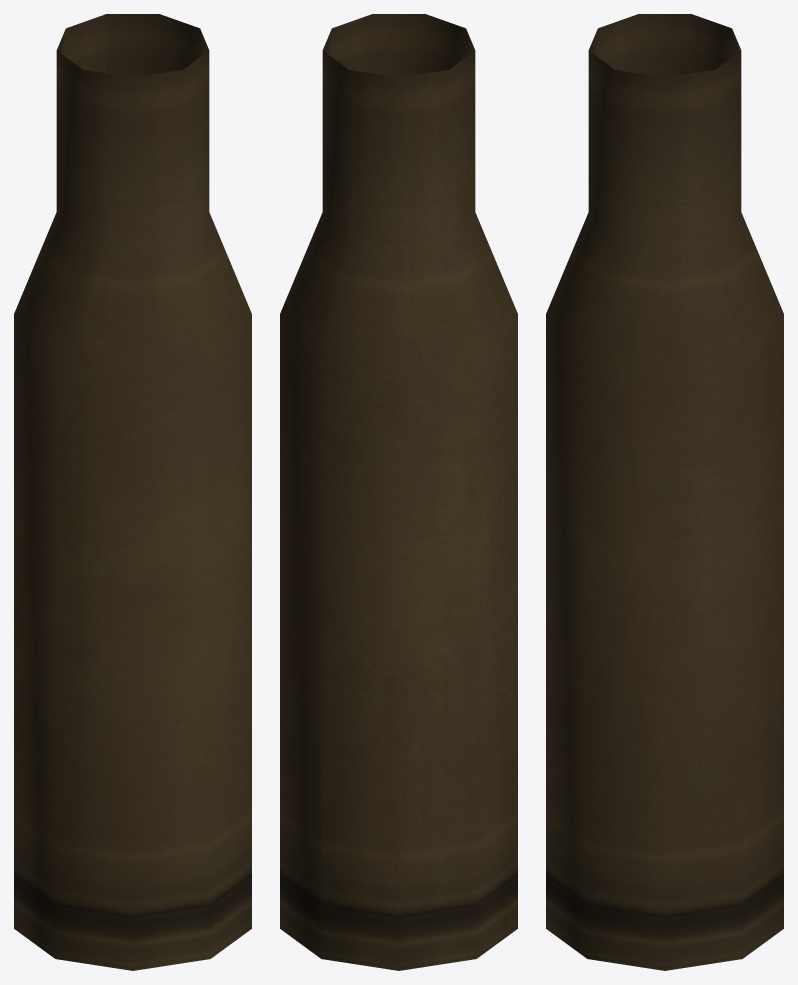
File: Shell.FBX
3 renders of one model, left to right at view 1: azimuth 30°, elevation 25°; view 2: azimuth 150°, elevation 25°; view 3: azimuth 270°, elevation 25°, orthographic.
Parts seen in each view (by area): view 1: Cylinder001; view 2: Cylinder001; view 3: Cylinder001.
Boxes of the visible parts, <box> form: Cylinder001: <box>14,14,251,970</box>; Cylinder001: <box>280,14,517,970</box>; Cylinder001: <box>546,14,783,970</box>.
Size of the model in its own units: 4.9 by 20.19 by 4.97.
